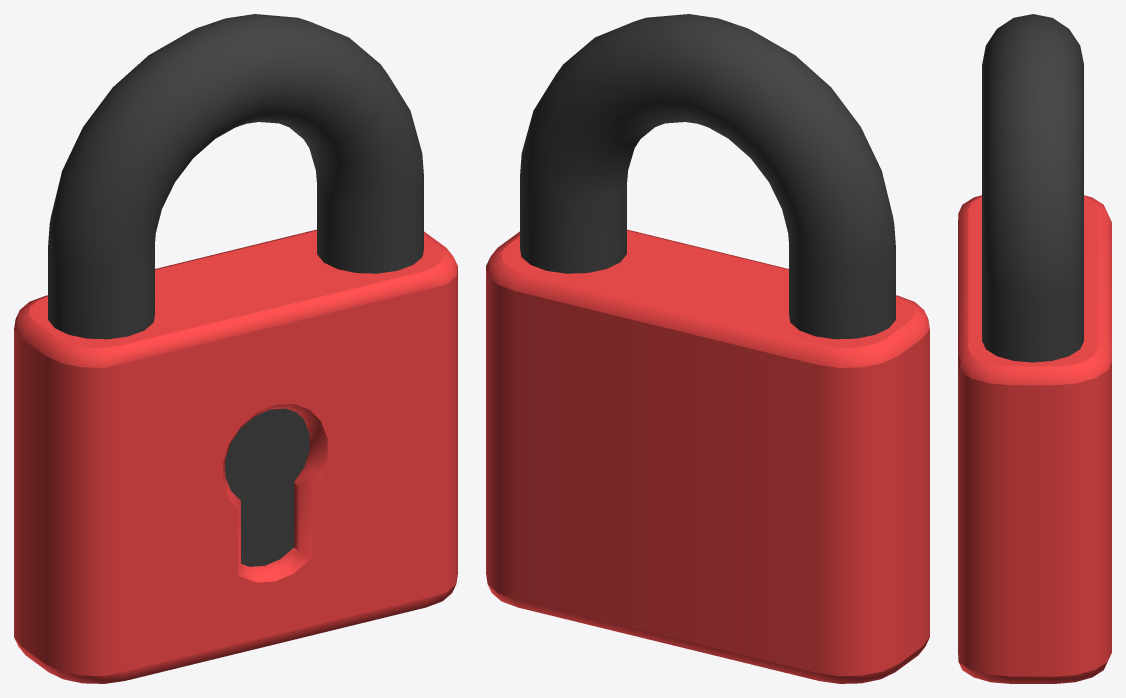
The model's file is Lock.fbx.
The picture shows the model from 3 angles, left to right: view 1: azimuth 30°, elevation 25°; view 2: azimuth 150°, elevation 25°; view 3: azimuth 270°, elevation 25°; orthographic projection. The views are drawn at different scales.
Visible parts, largest first — view 1: Lock; view 2: Lock; view 3: Lock.
Part boxes in pixels (x1=…): Lock: x1=14, y1=14, x2=457, y2=683; Lock: x1=486, y1=14, x2=929, y2=683; Lock: x1=958, y1=14, x2=1111, y2=683.
Bounding box in the file's own units: 1.39 × 1.96 × 0.4838.
